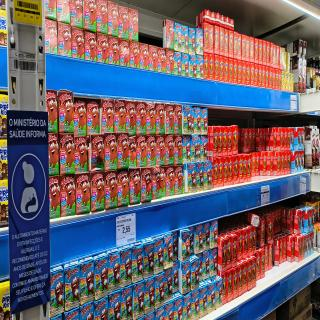Juice: (282, 48, 286, 71), (286, 52, 290, 72), (290, 73, 294, 92), (282, 70, 285, 91), (285, 71, 288, 92), (288, 72, 290, 92)
beverage: (116, 132, 130, 168), (136, 134, 146, 168), (164, 133, 174, 166), (146, 135, 156, 166), (210, 127, 219, 158), (173, 134, 182, 164), (210, 158, 218, 188), (203, 25, 210, 54), (273, 238, 280, 266), (247, 212, 259, 228), (227, 125, 233, 156), (232, 124, 238, 155), (222, 156, 228, 186), (232, 155, 238, 185), (228, 30, 234, 60), (214, 24, 219, 56), (224, 58, 230, 84), (218, 126, 223, 157), (219, 27, 224, 57), (214, 55, 220, 80), (224, 29, 229, 57), (242, 33, 247, 61), (231, 57, 236, 84), (204, 52, 209, 78), (237, 58, 242, 84), (209, 53, 214, 78), (234, 32, 238, 60), (220, 54, 224, 82), (238, 32, 242, 59)
